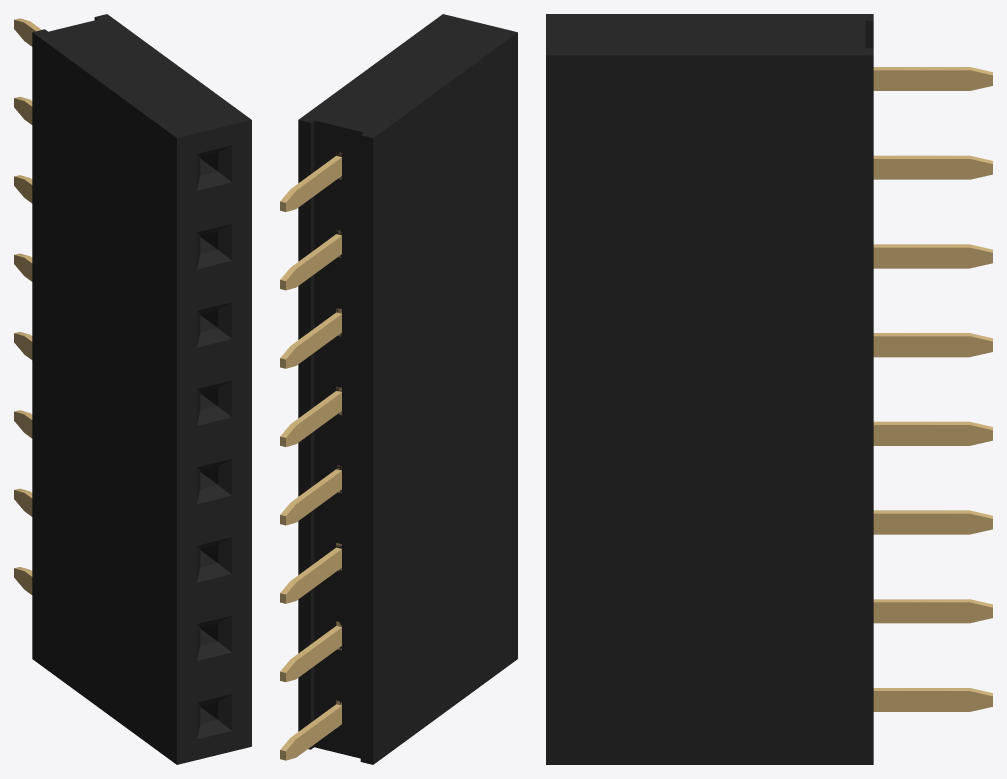
Rendered from socket-1x08.glb.
3 renders of one model, left to right at view 1: azimuth 30°, elevation 25°; view 2: azimuth 150°, elevation 25°; view 3: azimuth 270°, elevation 25°, orthographic. The views are drawn at different scales.
Visible parts, largest first — view 1: IC-BODY-EPOXY-04, PIN-02; view 2: IC-BODY-EPOXY-04, PIN-02 (×7); view 3: IC-BODY-EPOXY-04, PIN-02 (×7).
Boxes of the visible parts, x1,y1,x2,y2 form: IC-BODY-EPOXY-04: (32, 14, 251, 764); PIN-02: (14, 18, 41, 594); IC-BODY-EPOXY-04: (298, 14, 517, 764); PIN-02 (×7): (280, 152, 341, 760); IC-BODY-EPOXY-04: (546, 14, 873, 764); PIN-02 (×7): (873, 67, 992, 711).
Size of the model in its own units: 2.54 by 20.32 by 11.6.
